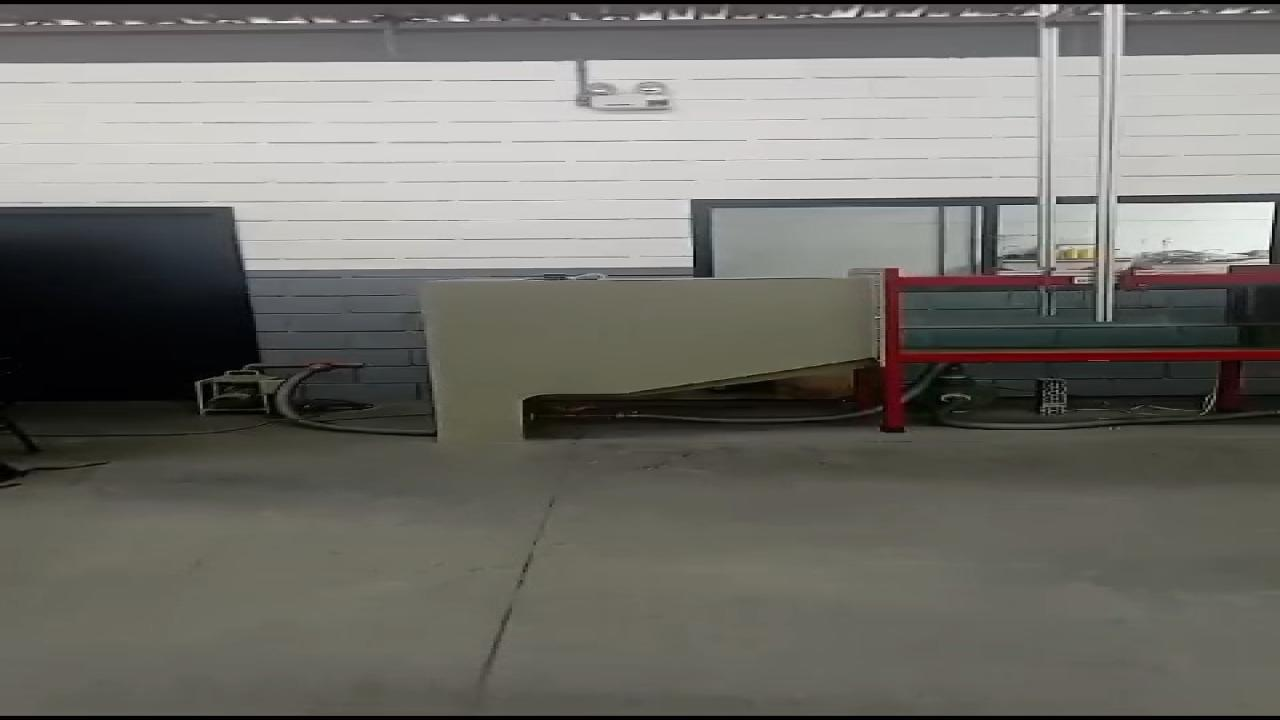Cube: (545, 274, 566, 280)
